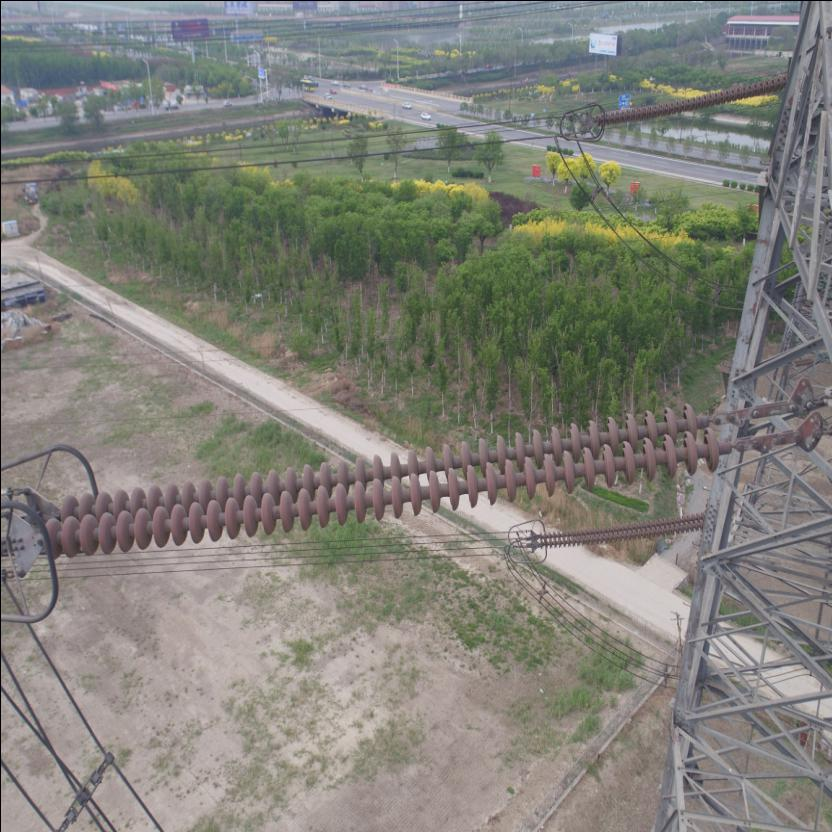insulator: (32, 394, 764, 560), (590, 70, 782, 126), (535, 508, 702, 547)
